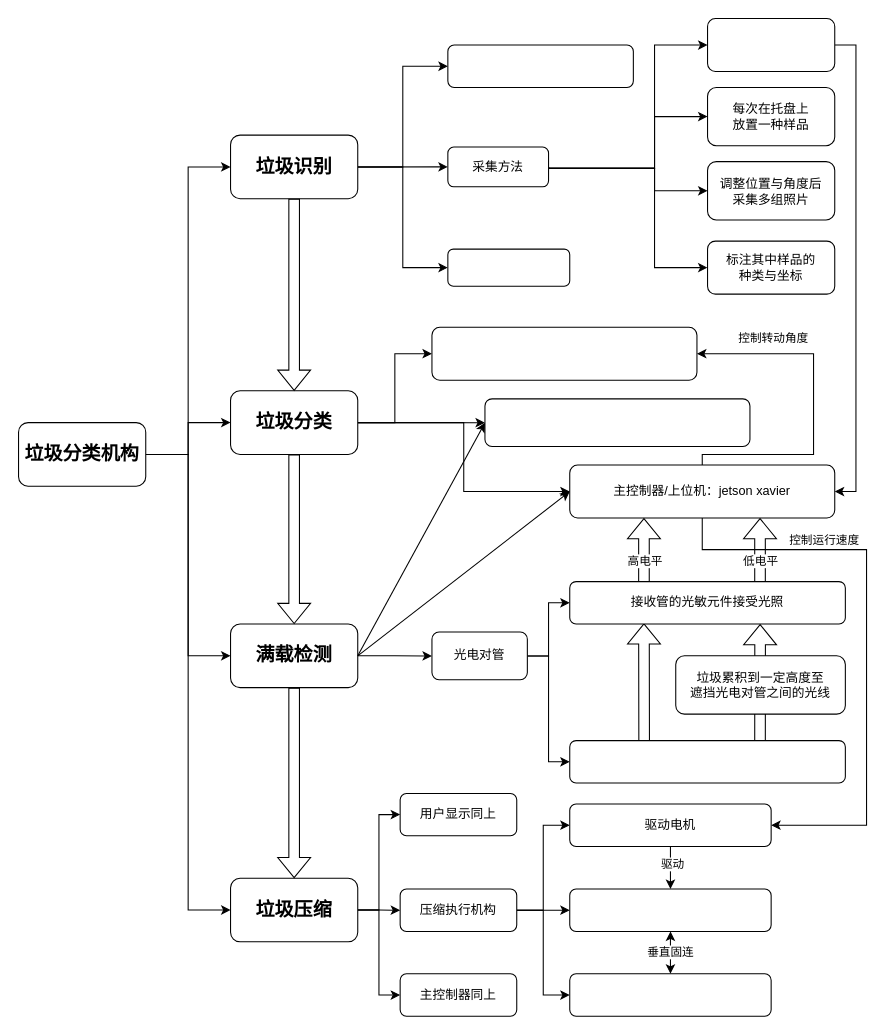
Image size: 894x1036. Some labels were removed from this diagram. Here are the shapes that lost their labels. From the top down, the box of each, then its label:
(706, 17, 835, 72): 固定摄像头
(447, 44, 633, 87): 数据集：四类垃圾样品的照片
(447, 248, 570, 286): 模型： yolov5s
(431, 326, 697, 380): 被控制器/下位机： 二维舵机云台+直线模组+机械爪
(484, 398, 750, 447): 用户显示：7寸串口显示屏
(569, 740, 845, 783): 发射管发出光照
(569, 888, 771, 931): 推杆
(569, 973, 771, 1016): 压缩平板
